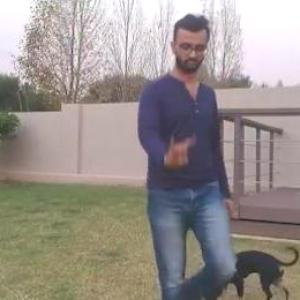takeoff-hand: (156, 129, 200, 170)
